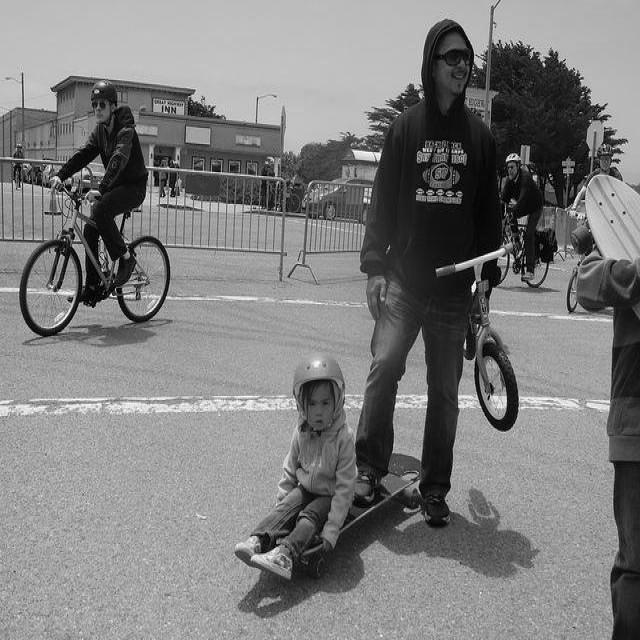vehicle: (307, 180, 372, 223), (302, 177, 374, 213), (74, 163, 106, 194), (27, 164, 47, 186), (566, 196, 586, 218)
